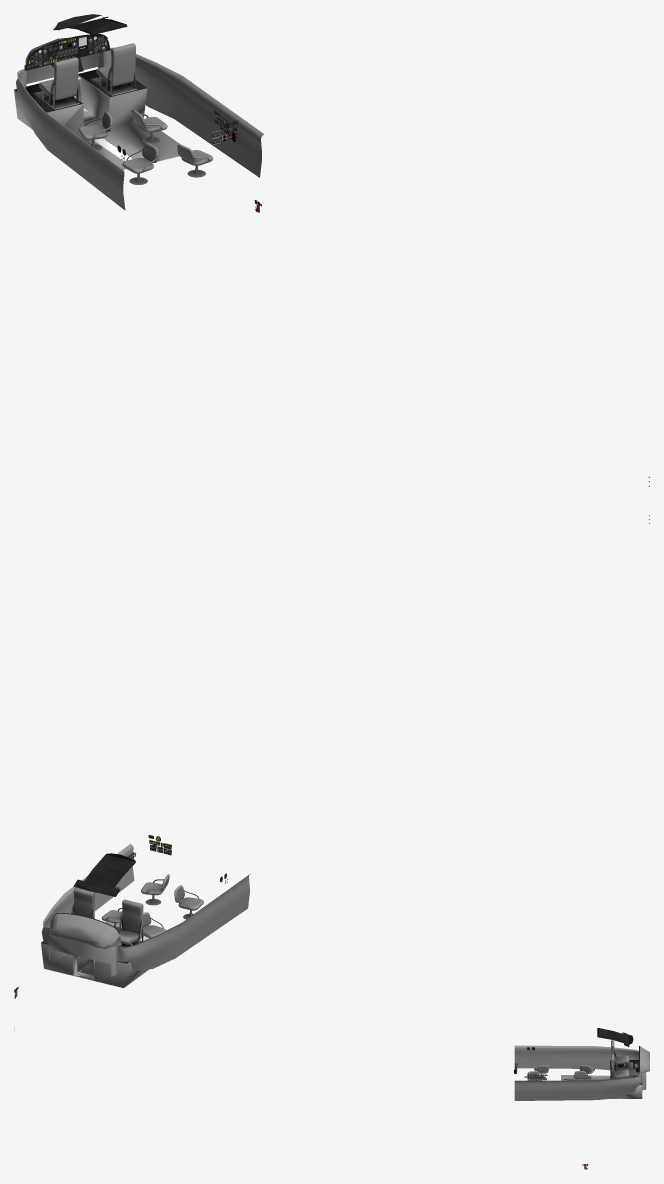
3 renders of one model, top to bottom at view 1: azimuth 30°, elevation 25°; view 2: azimuth 150°, elevation 25°; view 3: azimuth 270°, elevation 25°, orthographic. The views are drawn at different scales.
Visible parts, largest first — view 1: static-material-0, static-material-1; view 2: static-material-0, static-material-1; view 3: static-material-0, static-material-1.
Boxes of the visible parts, x1=… form: static-material-0: x1=14, y1=14, x2=264, y2=210; static-material-1: x1=33, y1=43, x2=213, y2=184; static-material-0: x1=41, y1=843, x2=250, y2=988; static-material-1: x1=71, y1=874, x2=203, y2=946; static-material-0: x1=514, y1=1028, x2=649, y2=1100; static-material-1: x1=527, y1=1040, x2=632, y2=1080.
Size of the model in its own units: 4.88 by 4.75 by 25.71.
197 materials, 184 textured.
